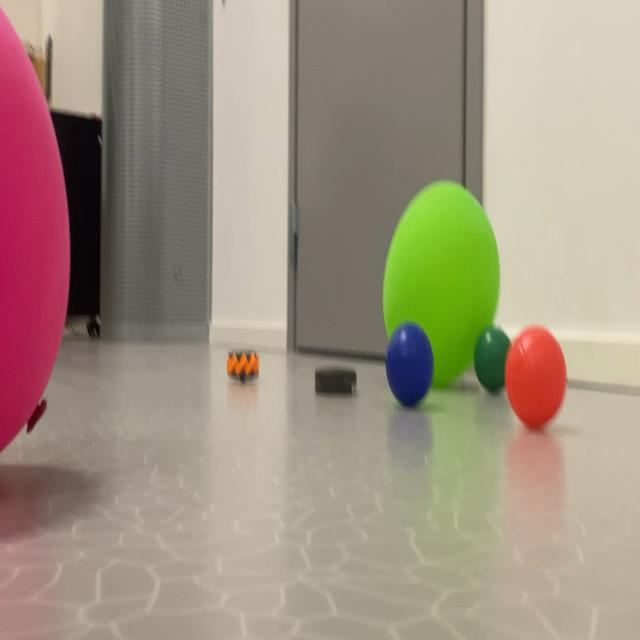7: (510, 317, 574, 458)
green ball: (373, 311, 443, 437)
red ball: (475, 323, 519, 415)
